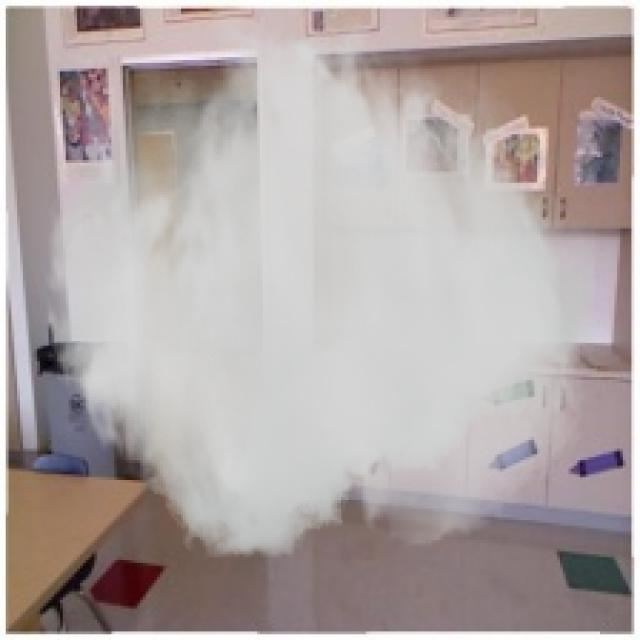smoke: (40, 0, 594, 557)
